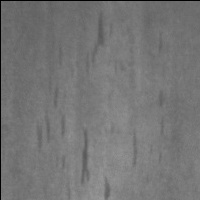inclusion: (33, 86, 71, 170), (73, 13, 108, 76), (77, 123, 94, 186), (46, 58, 65, 111), (127, 125, 144, 170), (99, 173, 113, 200), (154, 84, 168, 111), (153, 27, 166, 56), (156, 114, 168, 139)
